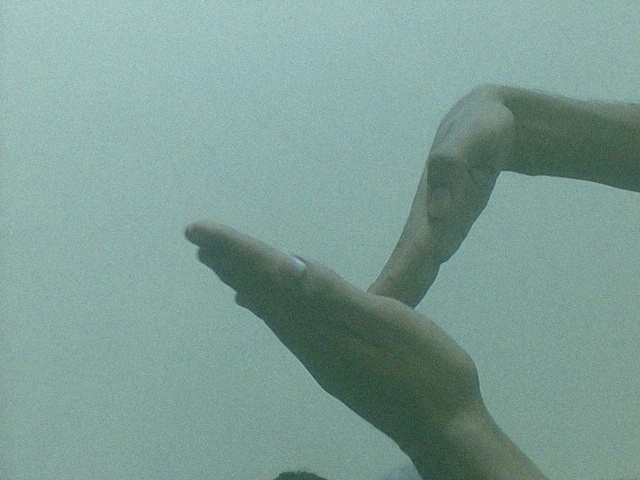hand: (183, 215, 484, 445), (361, 77, 520, 314)
